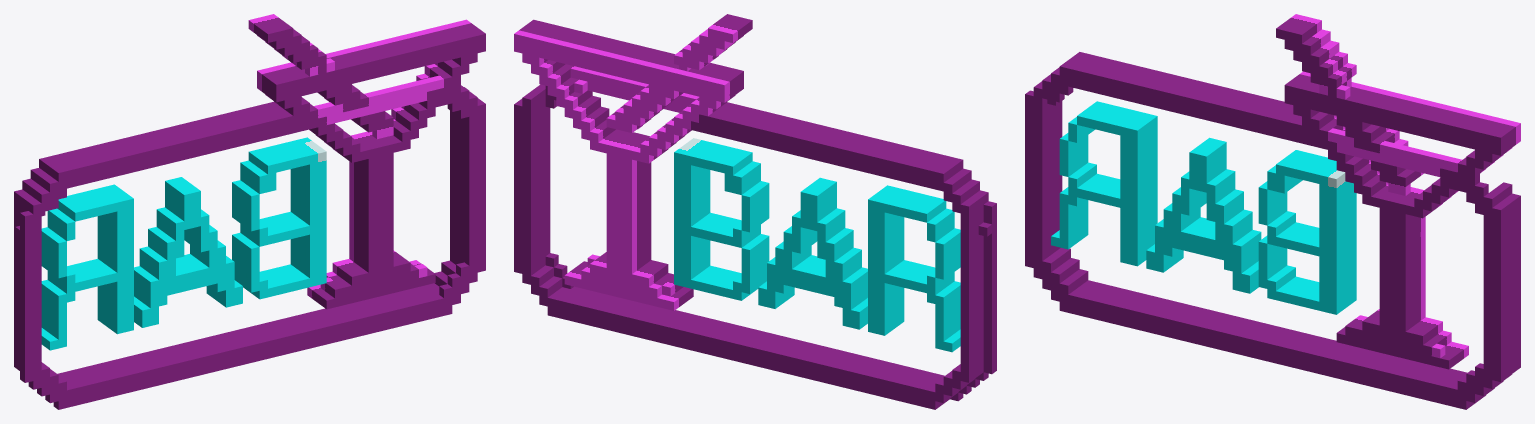
3 renders of one model, left to right at view 1: azimuth 30°, elevation 25°; view 2: azimuth 150°, elevation 25°; view 3: azimuth 330°, elevation 25°, orthographic. The views are drawn at different scales.
Parts seen in each view (by area): view 1: Content-Mesh; view 2: Content-Mesh; view 3: Content-Mesh.
Part boxes in pixels (x1,y1,x2,y2): Content-Mesh: (14, 14, 485, 409); Content-Mesh: (514, 14, 996, 409); Content-Mesh: (1025, 14, 1520, 409).
Bounding box in the file's own units: 55 × 37 × 4.
1 material, 1 textured.
